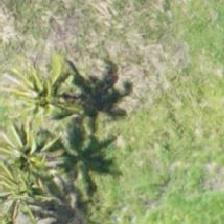coconut_tree: (0, 50, 90, 140), (0, 111, 74, 201), (0, 145, 63, 223)
